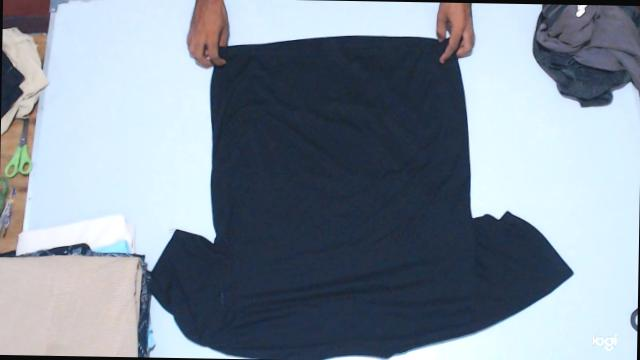new-garment: (152, 36, 572, 360)
